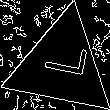L_W: (34, 45, 88, 86)
